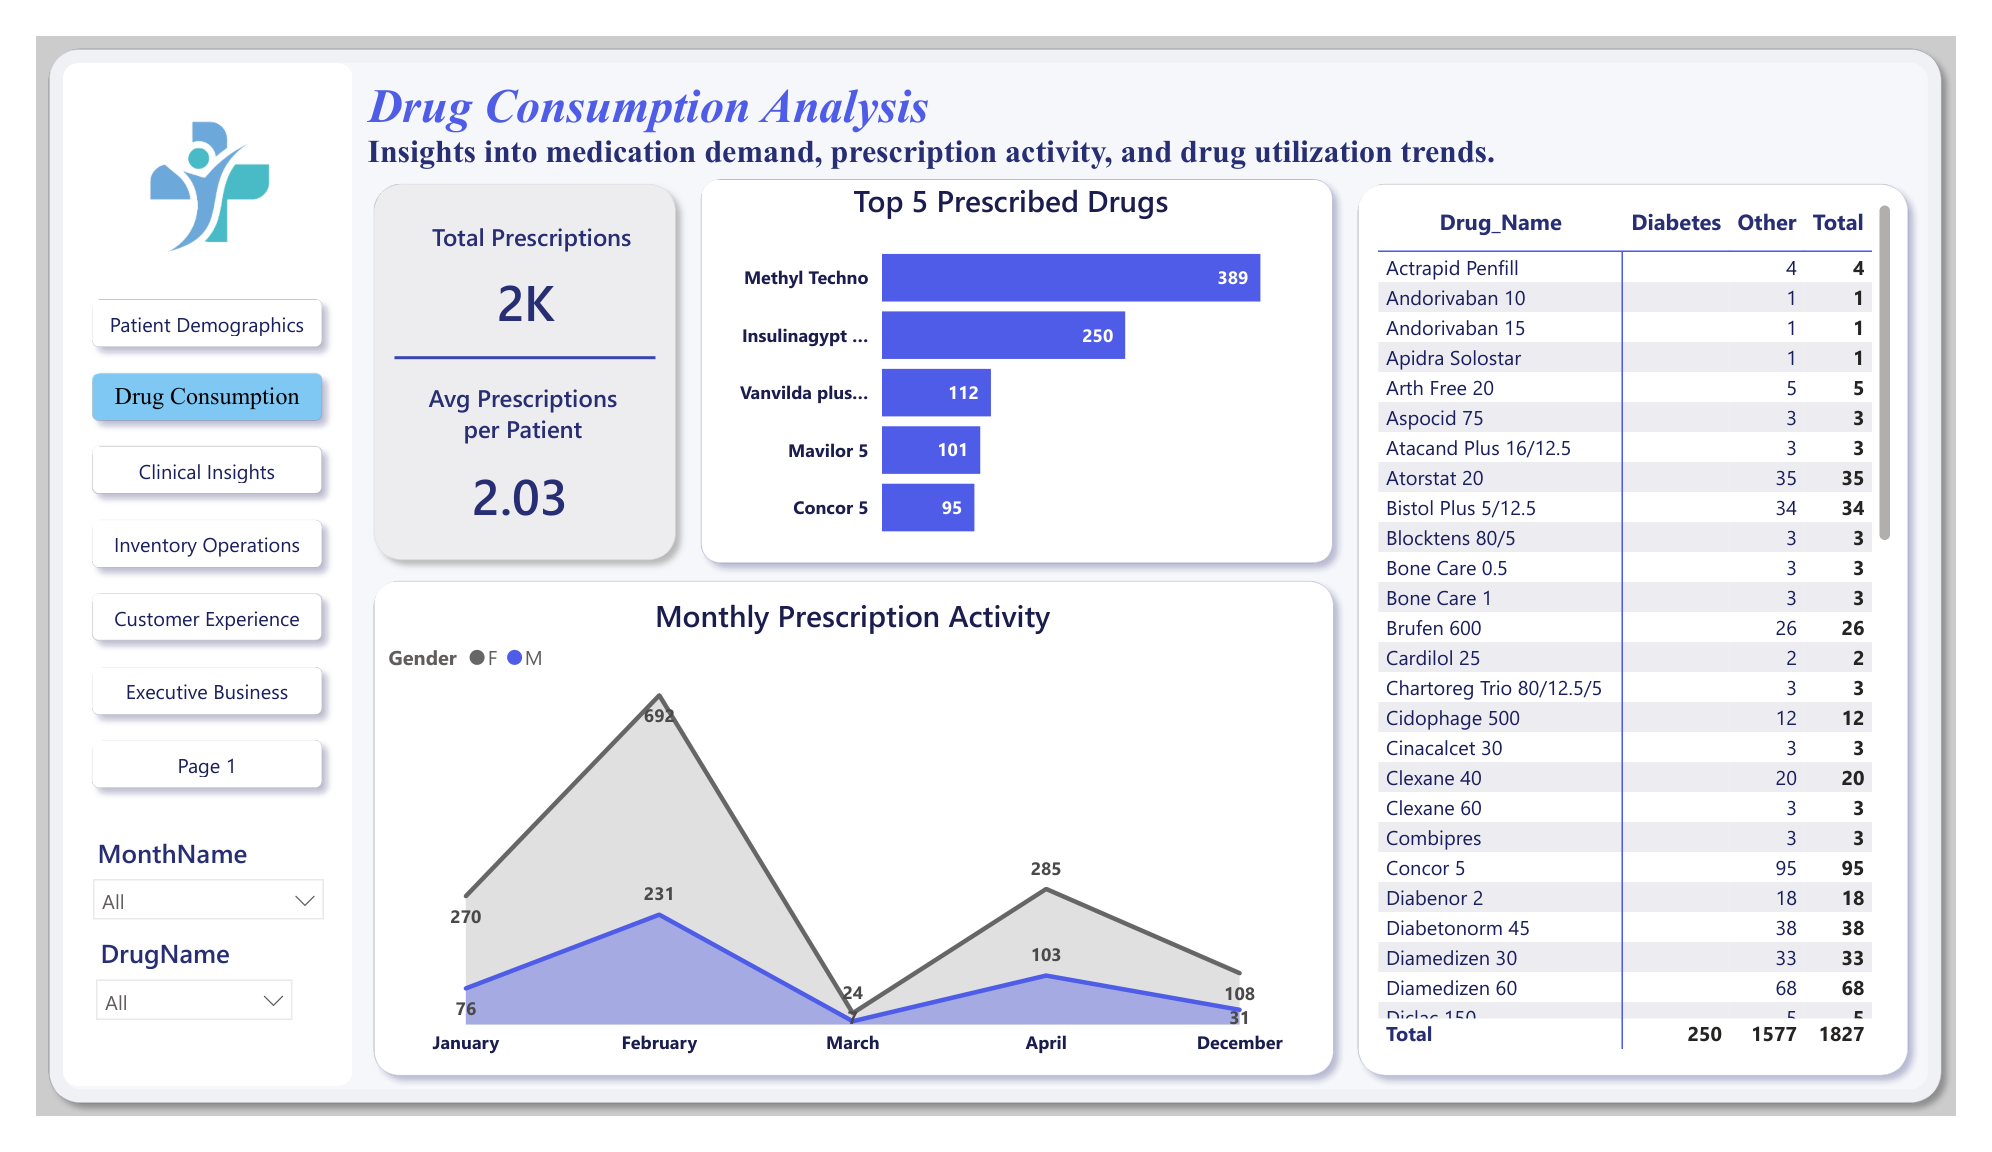

Layout of this report page (visuals, bound fields, positions):
{"tool":"powerbi","page":{"name":"Drug Consumption","canvas":[1280,720],"ordinal":1},"visuals":[{"type":"shape","box":[0,0,1279.3,719.9],"z":0},{"type":"shape","box":[18.3,18.3,192.6,681.7],"z":1000},{"type":"shape","box":[216.7,90,218.3,268.3],"z":1000,"group":"g1"},{"type":"cardVisual","title":"Total Patients","fields":{"Data":["_MeasureTable.Avg Prescriptions per Patient"]},"box":[264.1,276.5,116.8,64.4],"z":1000,"group":"g2"},{"type":"image","box":[38.2,36.7,151.3,114.6],"z":2000},{"type":"textbox","box":[215.5,22.9,904.8,71.8],"z":3000},{"type":"cardVisual","title":"Total Patients","fields":{"Data":["_MeasureTable.Total Prescriptions"]},"box":[270.6,147.3,110.9,77.3],"z":3000,"group":"g1"},{"type":"textbox","box":[238.2,225.5,172.7,66.2],"z":3000,"group":"g2"},{"type":"textbox","box":[244.3,118.2,171.8,32.7],"z":4000,"group":"g1"},{"type":"slicer","fields":{"Values":["DimDate.MonthName"]},"box":[27.5,527.3,174.2,67.3],"z":4000},{"type":"group","id":"g1","title":"Card_2","box":[216.7,90,218.3,268.3],"z":5000},{"type":"group","id":"g2","title":"Card_3","box":[238.2,225.5,172.7,115.5],"z":6000},{"type":"slicer","fields":{"Values":["Drug.Drug_Name"]},"box":[29.7,594.3,151.5,93.6],"z":7000},{"type":"group","id":"g3","title":"Group 2","box":[435,86.7,438.3,273.3],"z":8000,"group":"g4"},{"type":"shape","box":[239.1,177.3,173.6,74.5],"z":8000},{"type":"shape","box":[873.3,90,383.3,611.7],"z":9000},{"type":"pivotTable","fields":{"Rows":["Drug.Drug_Name"],"Columns":["Drug.Drug Category"],"Values":["_MeasureTable.Total Prescriptions"]},"box":[890,106.7,351.7,573.3],"z":10000},{"type":"group","id":"g4","title":"Group 1","box":[435,86.7,438.3,273.3],"z":11000},{"type":"shape","box":[435,86.7,438.3,273.3],"z":11000,"group":"g3"},{"type":"shape","box":[216.7,355,656.7,346.7],"z":11000,"group":"g5"},{"type":"areaChart","title":"Monthly Prescription Activity","fields":{"Series":["Patient.Gender"],"Y":["CountNonNull(Dispense.Dispense_ID)"],"Category":["DimDate.MonthName"]},"box":[230,371.7,629.1,318.3],"z":12000,"group":"g5"},{"type":"group","id":"g5","title":"Group 3","box":[216.7,355,656.7,346.7],"z":13000},{"type":"barChart","title":"Top 5 Prescribed Drugs","fields":{"Category":["Dispense.Drug_Name"],"Y":["CountNonNull(Dispense.Dispense_ID)"]},"box":[452.4,94.7,395.8,256.3],"z":14000,"group":"g4"},{"type":"pageNavigator","box":[29,166.6,169.7,348.5],"z":14000}]}

Visuals, with their boxes in screenshot pixels (x1, y1, x2, y2), scaled from the page's 1280x720 canvas onto the 1992x1152 screenshot:
shape: 0 0 1991 1151
shape: 28 29 328 1120
shape: 337 144 677 573
"Total Patients" cardVisual: 411 442 593 545
image: 59 59 295 242
textbox: 335 37 1743 152
"Total Patients" cardVisual: 421 236 594 359
textbox: 371 361 639 467
textbox: 380 189 648 241
slicer - DimDate.MonthName: 43 844 314 951
"Card_2" group: 337 144 677 573
"Card_3" group: 371 361 639 546
slicer - Drug.Drug_Name: 46 951 282 1101
"Group 2" group: 677 139 1359 576
shape: 372 284 642 403
shape: 1359 144 1956 1123
pivotTable - Drug.Drug_Name x Drug.Drug Category: 1385 171 1932 1088
"Group 1" group: 677 139 1359 576
shape: 677 139 1359 576
shape: 337 568 1359 1123
"Monthly Prescription Activity" areaChart: 358 595 1337 1104
"Group 3" group: 337 568 1359 1123
"Top 5 Prescribed Drugs" barChart: 704 152 1320 562
pageNavigator: 45 267 309 824
